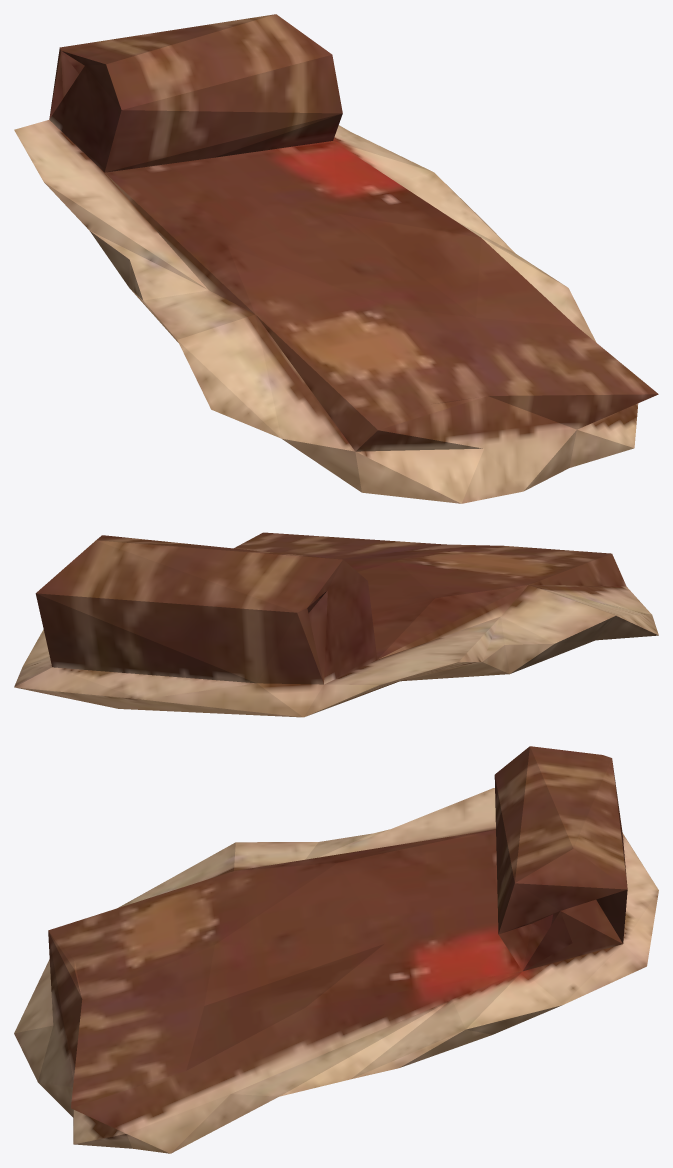
File: bedroll.glb
3 renders of one model, top to bottom at view 1: azimuth 30°, elevation 25°; view 2: azimuth 150°, elevation 25°; view 3: azimuth 270°, elevation 25°, orthographic. The views are drawn at different scales.
Parts seen in each view (by area): view 1: bedroll; view 2: bedroll; view 3: bedroll.
Part boxes in pixels (box(x1,y1,x2,y2)): bedroll: box(14, 14, 658, 503); bedroll: box(14, 532, 658, 717); bedroll: box(14, 746, 658, 1153).
Size of the model in its own units: 1.32 by 0.8561 by 1.87.
1 material, 1 textured.
